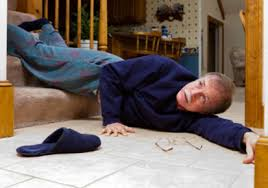falling: (10, 11, 264, 159)
